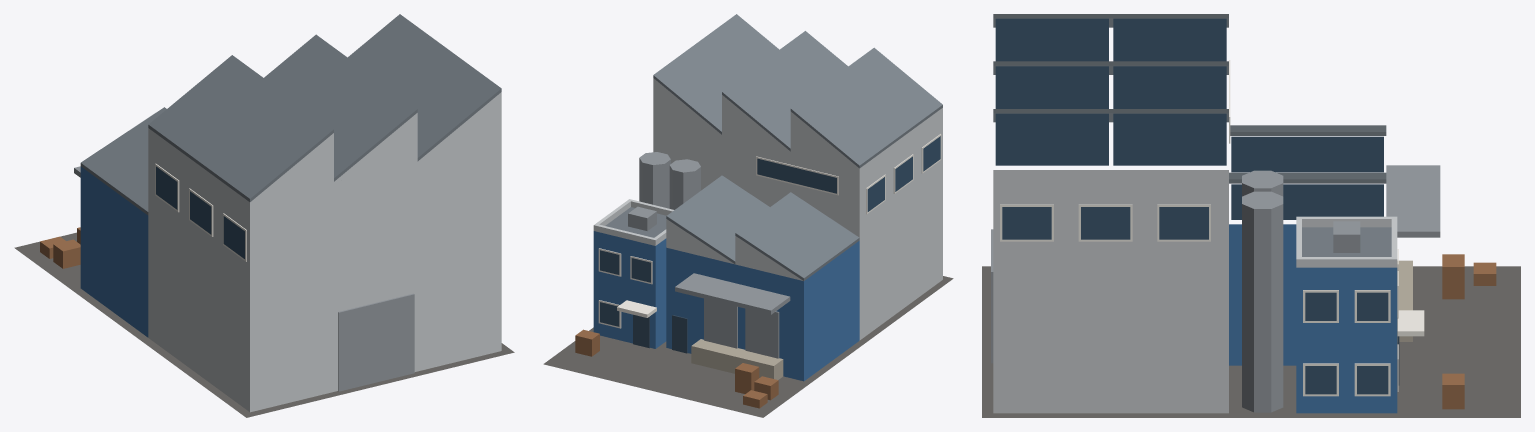
3 views of the same model, side by side, from view 1: azimuth 30°, elevation 25°; view 2: azimuth 150°, elevation 25°; view 3: azimuth 270°, elevation 25° (orthographic). The views are drawn at different scales.
Visible parts, largest first — view 1: hall, roof (×4), hall_low, roof_end (×3), garage_door, yard, window_glass (×3), pallets; view 2: roof (×6), hall, hall_low, yard, roof_end (×5), office, window_glass (×7), garage_door (×2), silo (×2), canopy (×2), dock, pallets (×3) (+4 smaller); view 3: hall, window_band (×8), yard, office, silo (×2), roof (×6), window_glass (×7), canopy (×2), hall_low, pallets (×3), parapet (×2), window_frame (×2) (+2 smaller).
Boxes of the visible parts, bbox=[...] form: hall: bbox=[148, 128, 501, 412]; roof (×4): bbox=[80, 14, 501, 215]; hall_low: bbox=[80, 166, 148, 337]; roof_end (×3): bbox=[250, 92, 501, 202]; garage_door: bbox=[338, 293, 414, 391]; yard: bbox=[14, 232, 514, 417]; window_glass (×3): bbox=[156, 166, 244, 258]; pallets: bbox=[53, 239, 80, 268]; roof (×6): bbox=[605, 14, 942, 280]; hall: bbox=[653, 108, 942, 340]; hall_low: bbox=[666, 241, 859, 381]; yard: bbox=[543, 276, 953, 417]; roof_end (×5): bbox=[653, 78, 858, 280]; office: bbox=[593, 231, 666, 348]; window_glass (×7): bbox=[600, 136, 940, 326]; garage_door (×2): bbox=[704, 298, 779, 358]; silo (×2): bbox=[639, 152, 700, 209]; canopy (×2): bbox=[617, 273, 790, 317]; dock: bbox=[691, 339, 783, 379]; pallets (×3): bbox=[575, 329, 778, 400]; hall: bbox=[993, 170, 1228, 413]; window_band (×8): bbox=[995, 18, 1383, 219]; yard: bbox=[982, 266, 1520, 417]; office: bbox=[1296, 267, 1397, 413]; silo (×2): bbox=[1242, 170, 1283, 412]; roof (×6): bbox=[993, 14, 1391, 256]; window_glass (×7): bbox=[1002, 207, 1388, 394]; canopy (×2): bbox=[1386, 165, 1440, 336]; hall_low: bbox=[1229, 224, 1296, 365]; pallets (×3): bbox=[1442, 255, 1496, 409]; parapet (×2): bbox=[1302, 216, 1391, 267]; window_frame (×2): bbox=[1000, 204, 1132, 241].
Bounding box in the file's own units: 16 × 15 × 24.
